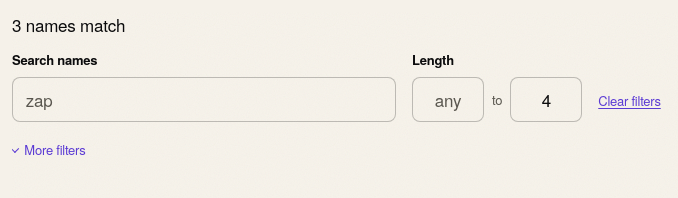
Scenario: Toolbar length range › keeps the longest length the visitor already set when they type a taller shortest
Check: the message reads "3 names match", box [12,12,125,37]
Type "9" into the number field named "Shortest label length". click: [448, 100]
box: [412,77,484,122]
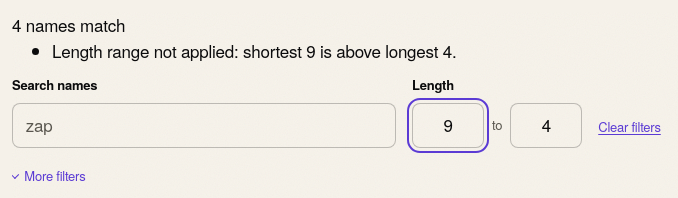
Check: the 2nd number field named "Longest label length" holds "4", box [510,102,582,148]
Check: the list "not applied" reads "Length range not applied: shortest 9 is above longest 4.", box [52,38,456,62]
Check: the message reads "4 names match", box [12,12,125,37]
